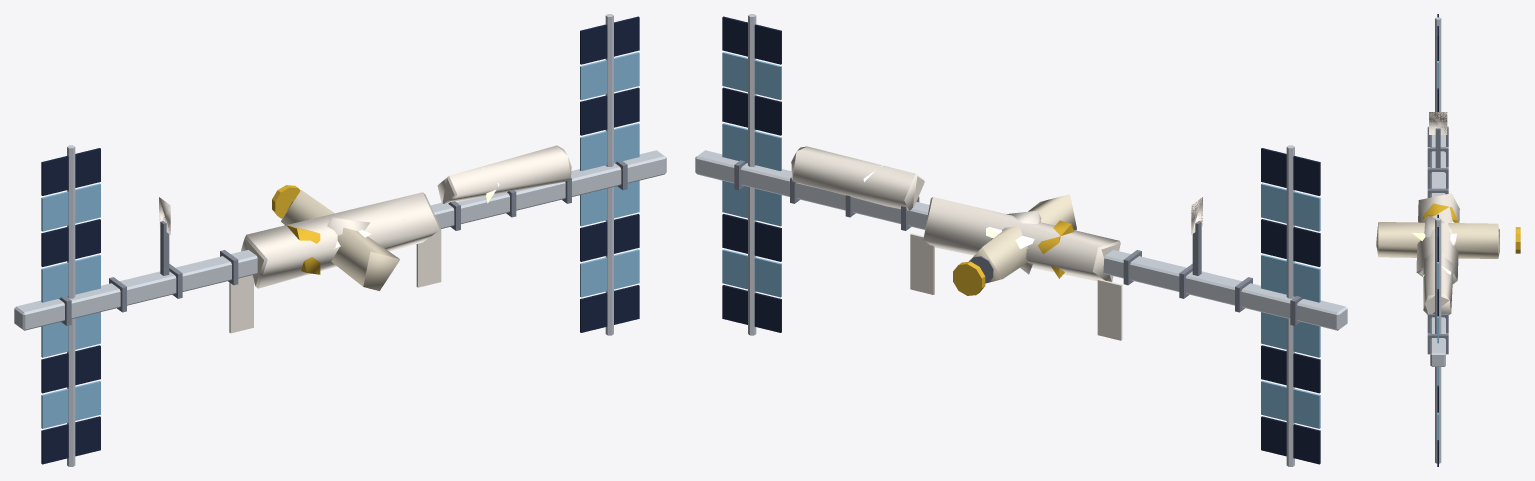
The model's file is space_station.glb.
The picture shows the model from 3 angles, left to right: view 1: azimuth 30°, elevation 25°; view 2: azimuth 150°, elevation 25°; view 3: azimuth 270°, elevation 25°; orthographic projection. The views are drawn at different scales.
Parts seen in each view (by area): view 1: space_station; view 2: space_station; view 3: space_station.
Part boxes in pixels (x1,y1,x2,y2): space_station: [14, 14, 666, 466]; space_station: [695, 14, 1347, 466]; space_station: [1376, 14, 1520, 466].
Size of the model in its own units: 110 by 52 by 28.
1 material, 1 textured.
